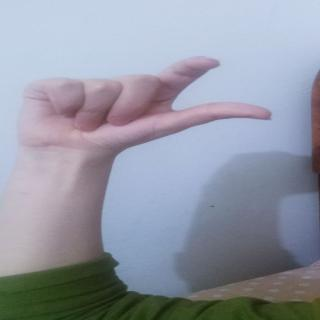DELL: (15, 50, 285, 152)
